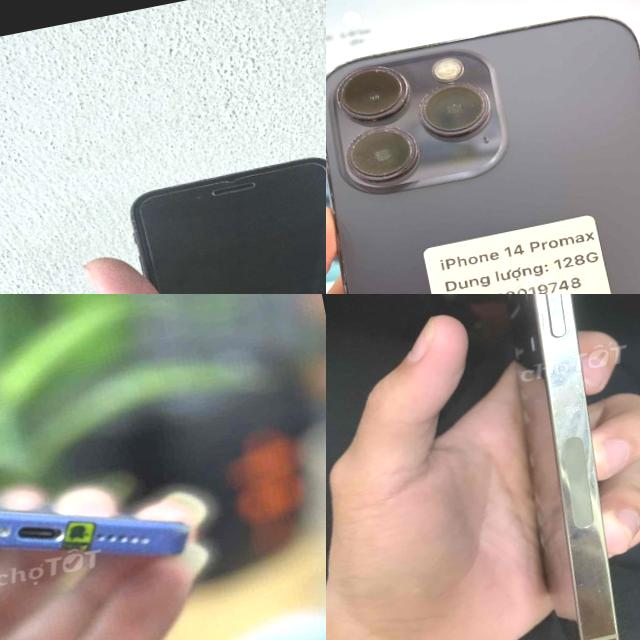scratch: (531, 332, 611, 457), (144, 153, 322, 200), (415, 69, 506, 155), (326, 115, 426, 190), (330, 59, 424, 130), (0, 490, 36, 569), (121, 197, 151, 276), (156, 522, 188, 556)
